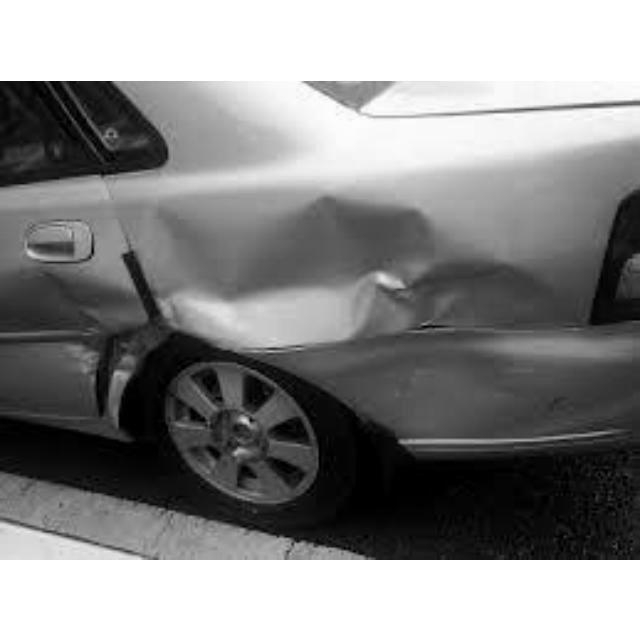doorouter-dent: (0, 189, 148, 413)
quaterpanel-dent: (194, 147, 601, 369)
